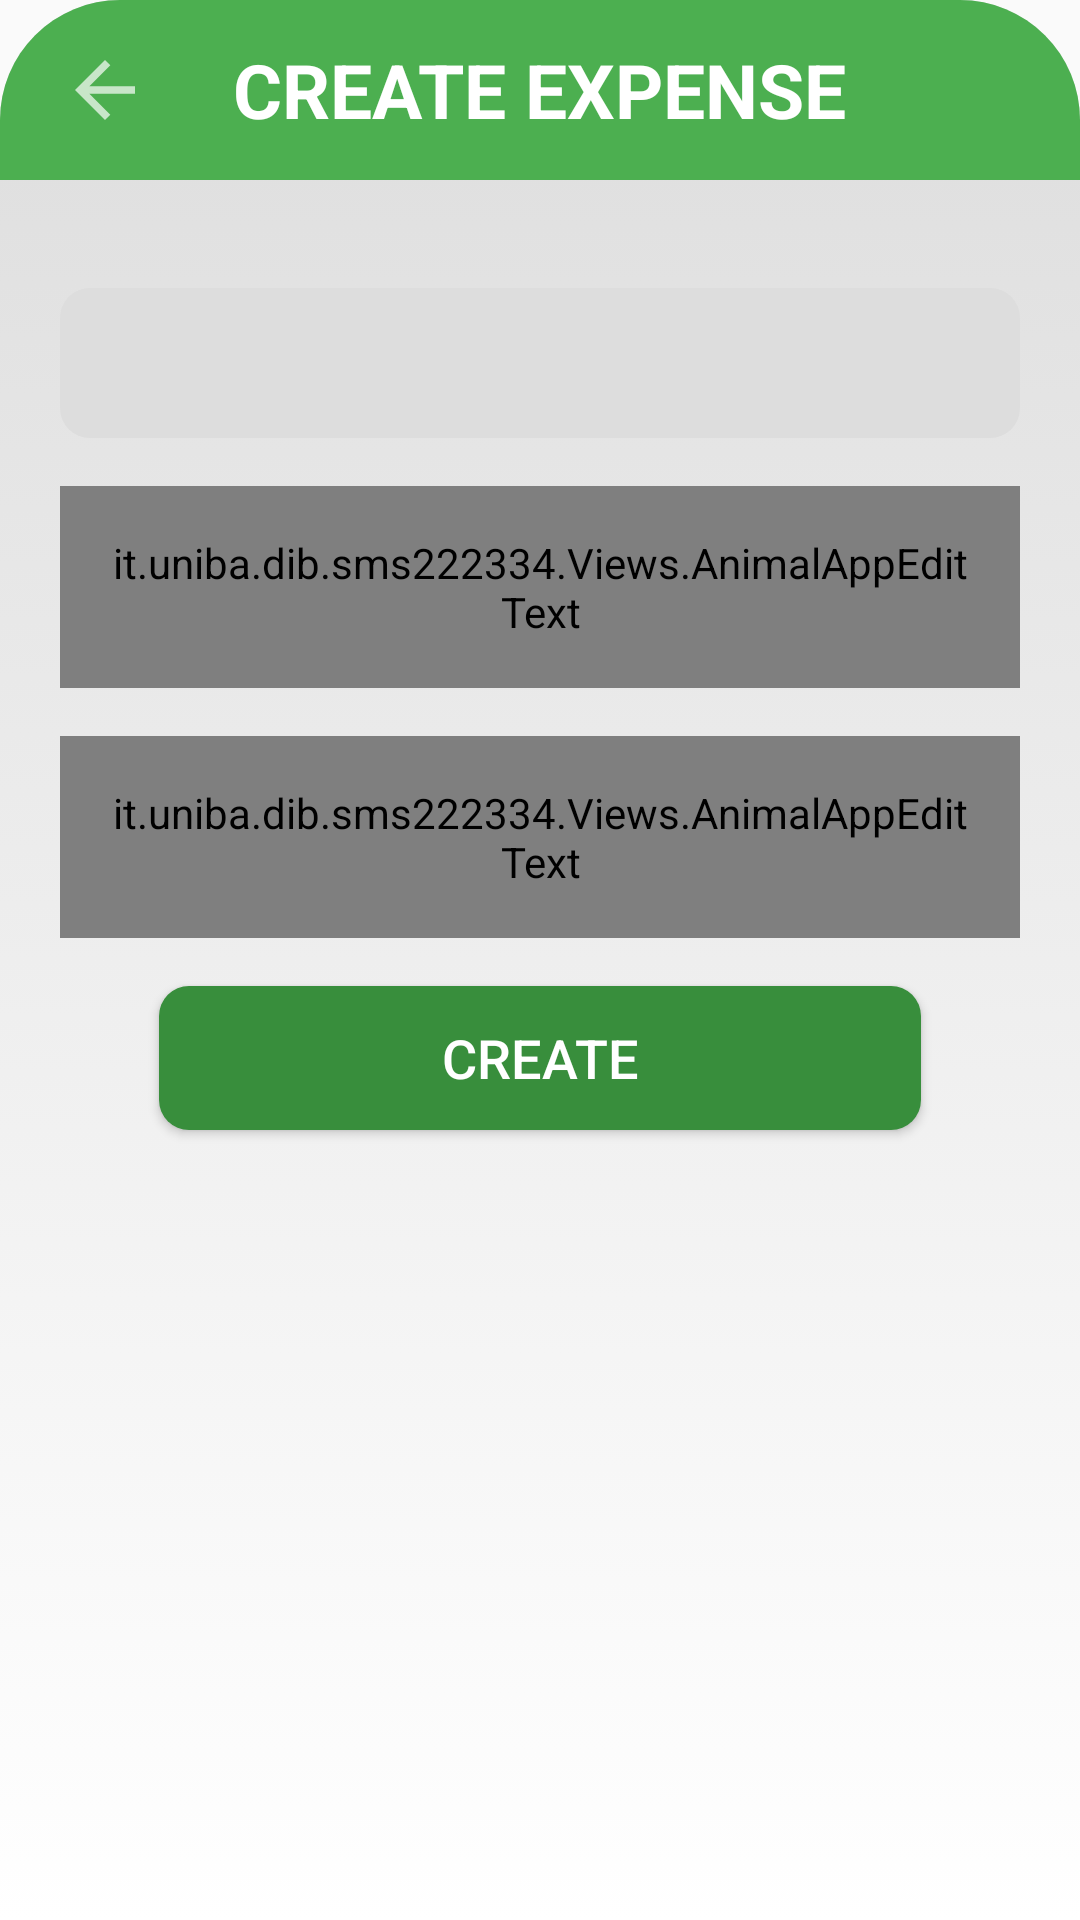

Named icons in this screenshot (1080px×1920px) and their centers, (x=x, y=y):
arrow back: (x=105, y=90)
